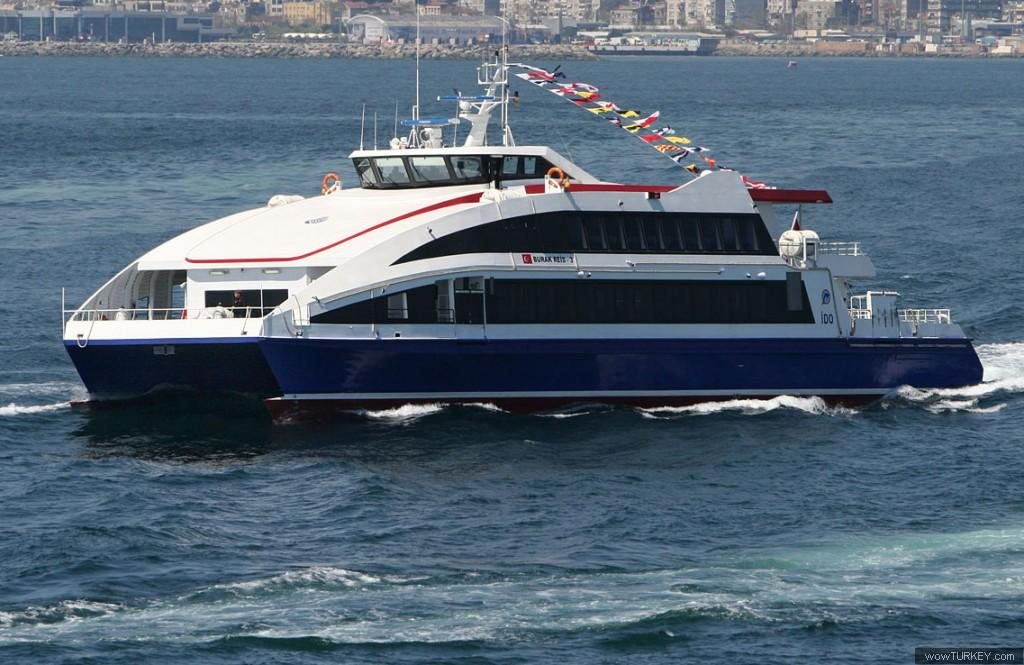PassengerShip: (60, 17, 992, 410)
